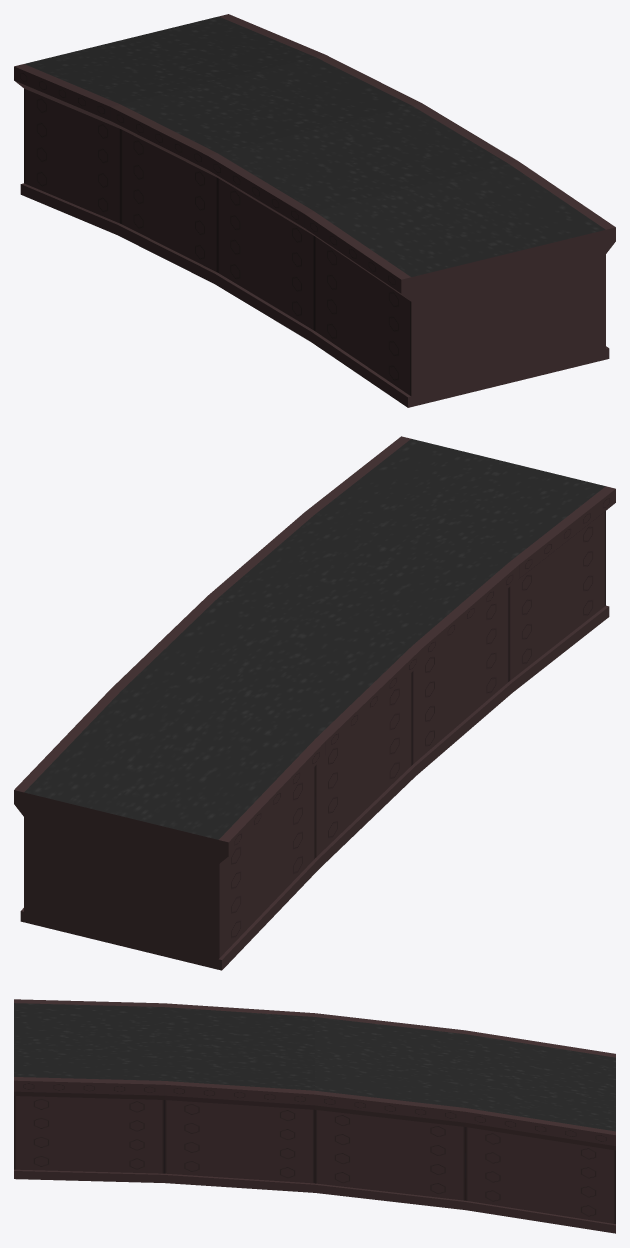
File: SW_ENV_EL_TrackBase_Riser_B_10m.fbx
3 views of the same model, one above another, from view 1: azimuth 30°, elevation 25°; view 2: azimuth 150°, elevation 25°; view 3: azimuth 270°, elevation 25° (orthographic). The views are drawn at different scales.
Visible parts, largest first — view 1: SW_ENV_EL_TrackBase_Riser_B_10m; view 2: SW_ENV_EL_TrackBase_Riser_B_10m; view 3: SW_ENV_EL_TrackBase_Riser_B_10m.
Boxes of the visible parts, x1=… form: SW_ENV_EL_TrackBase_Riser_B_10m: x1=14, y1=14, x2=615, y2=407; SW_ENV_EL_TrackBase_Riser_B_10m: x1=14, y1=436, x2=615, y2=970; SW_ENV_EL_TrackBase_Riser_B_10m: x1=14, y1=999, x2=615, y2=1233.
Bounding box in the file's own units: 3.2 × 2.85 × 10.
